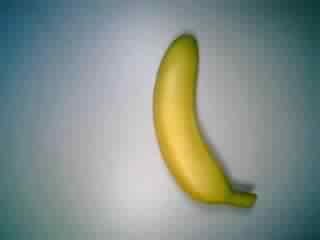banana: (149, 32, 264, 211)
